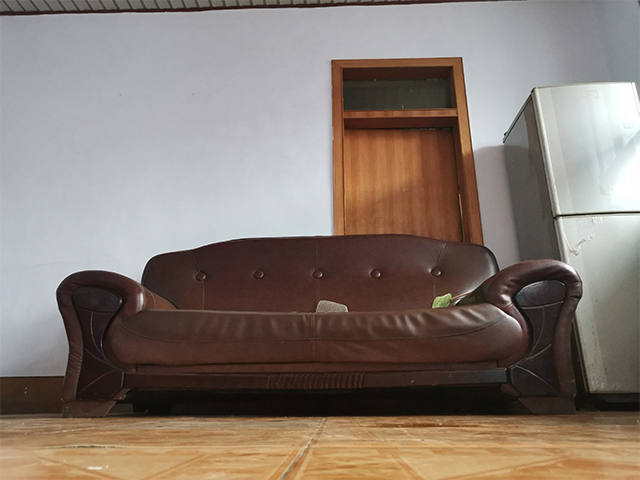sofa: (54, 233, 590, 420)
